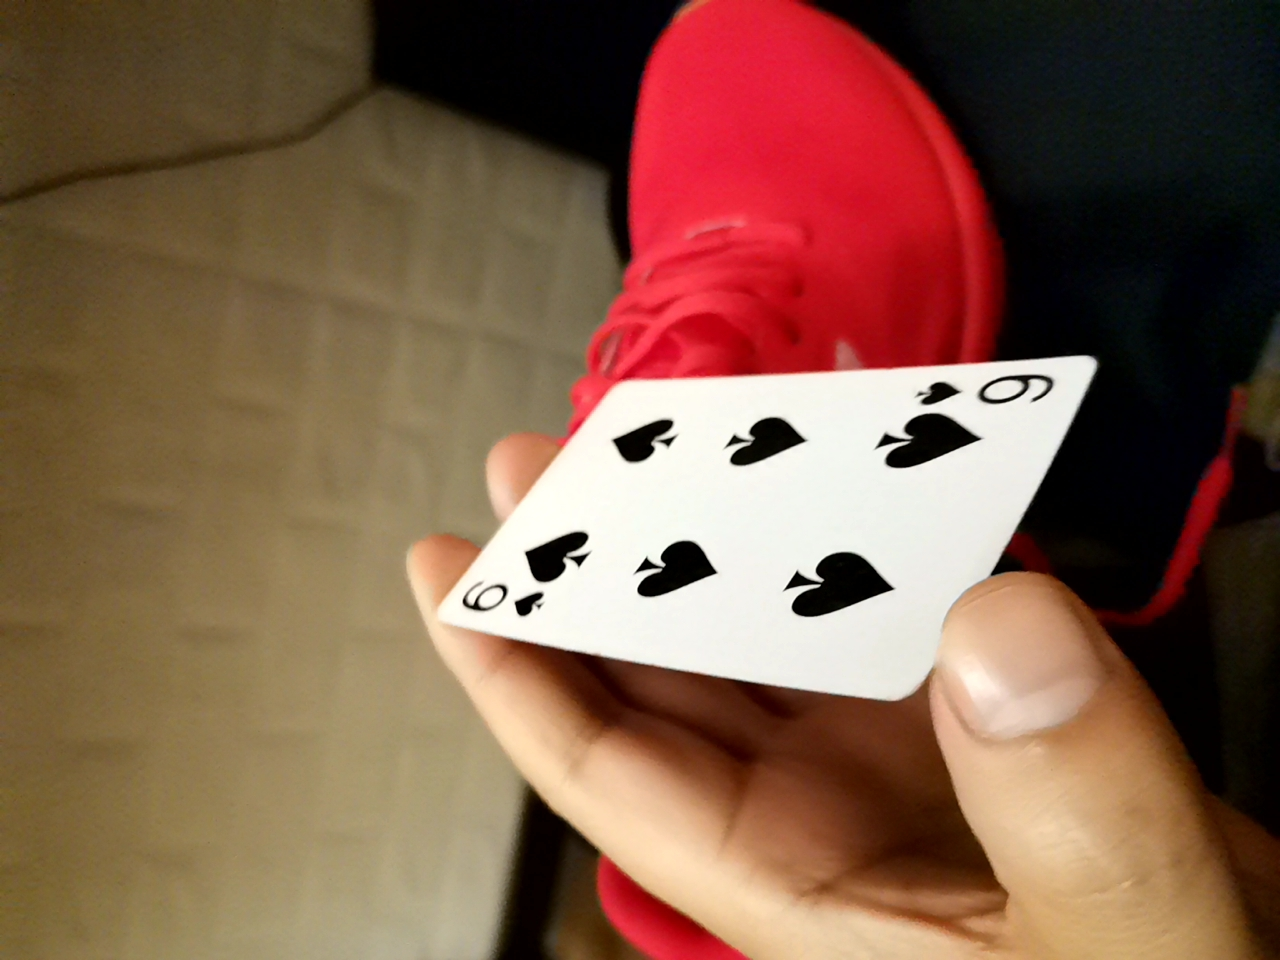ht 6: (427, 353, 1110, 702)
